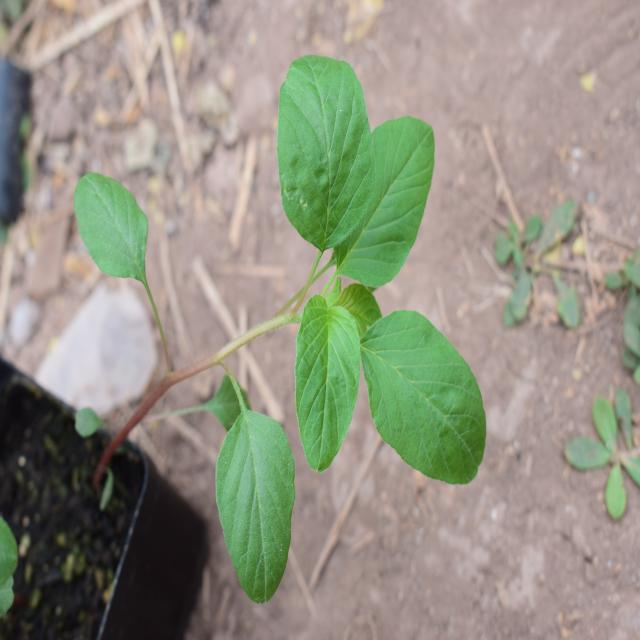pigweed: (193, 54, 495, 569)
